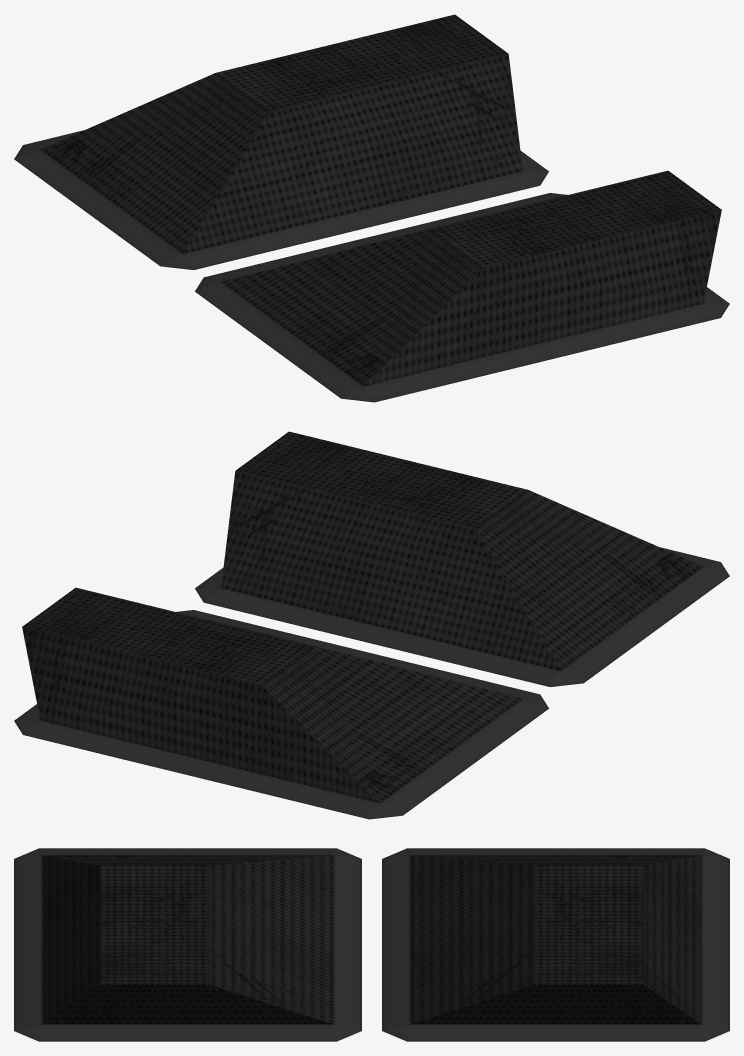
File: p6_hijacked_speed_boat_lock_lod2.glb
3 views of the same model, one above another, from view 1: azimuth 30°, elevation 25°; view 2: azimuth 150°, elevation 25°; view 3: azimuth 270°, elevation 25° (orthographic).
Parts seen in each view (by area): view 1: surf0, surf1; view 2: surf0, surf1; view 3: surf0, surf1.
Part boxes in pixels (bbox=[...]): surf0: bbox=[40, 14, 721, 385]; surf1: bbox=[14, 130, 729, 402]; surf0: bbox=[22, 431, 703, 802]; surf1: bbox=[14, 547, 729, 819]; surf0: bbox=[42, 855, 701, 1024]; surf1: bbox=[14, 848, 729, 1041].
Size of the model in its own units: 84 by 13 by 124.
